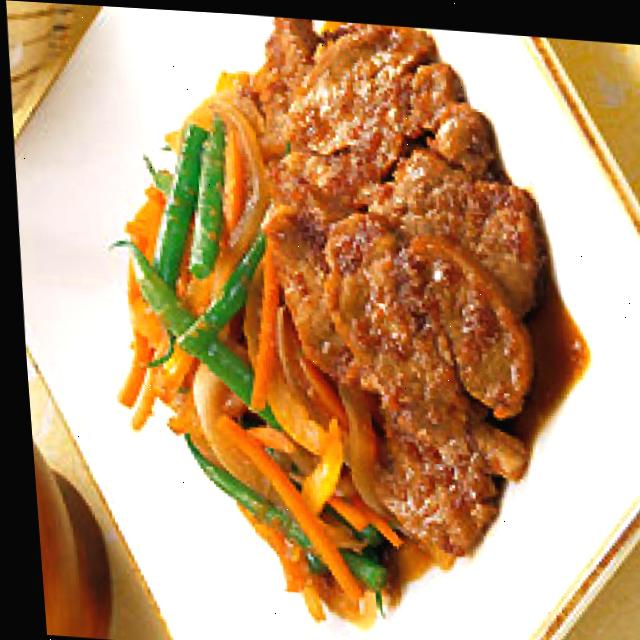猪肉菜式: (201, 9, 567, 563)
